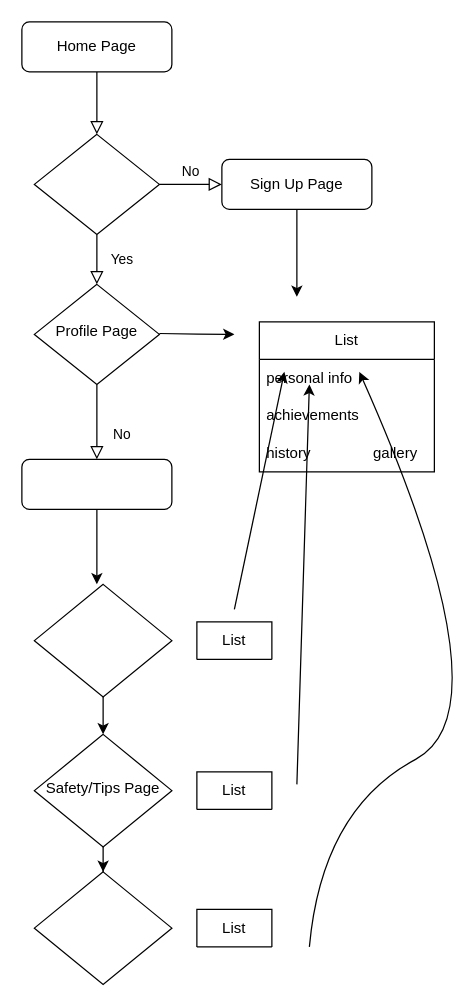
Image size: 475x1006. Some labels were removed from this diagram. Here are the shapes that lost their labels. From the top down, the centre of each, then its label:
At pixel 96 183: "Log In Page".
At pixel 96 483: "New's Feed".
At pixel 102 640: "Activity/Event Page".
At pixel 102 927: "Records Page".
